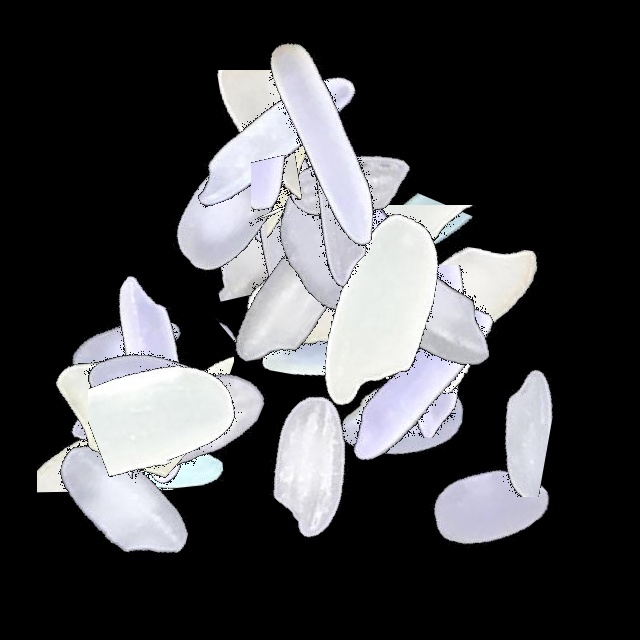Broken: (348, 265, 598, 438), (173, 81, 342, 331), (0, 310, 250, 478), (236, 158, 486, 324), (88, 283, 252, 533), (324, 250, 487, 500), (37, 290, 188, 540), (41, 370, 291, 520), (247, 255, 497, 403), (353, 354, 603, 497), (1, 315, 251, 456), (116, 326, 253, 576), (100, 70, 350, 201), (266, 205, 516, 327), (267, 41, 381, 291), (372, 129, 479, 379), (127, 335, 217, 585), (296, 260, 546, 347), (149, 229, 234, 479), (185, 198, 435, 283), (322, 336, 572, 418), (130, 263, 380, 344), (306, 111, 386, 361), (100, 329, 350, 409), (251, 68, 328, 318), (344, 241, 420, 491), (312, 382, 562, 458)
Full: (323, 187, 573, 437), (231, 225, 481, 475), (164, 58, 414, 308), (0, 228, 250, 478), (365, 381, 615, 631), (152, 70, 402, 320), (147, 95, 397, 345), (98, 88, 348, 338), (209, 170, 459, 420), (0, 376, 250, 626), (296, 260, 546, 510), (165, 181, 415, 431), (23, 254, 273, 504), (73, 299, 323, 549), (194, 125, 444, 375), (188, 337, 438, 587), (28, 266, 278, 516), (302, 192, 552, 442), (244, 132, 494, 382), (227, 58, 477, 308), (149, 16, 399, 266), (255, 187, 505, 437), (198, 17, 448, 267)
